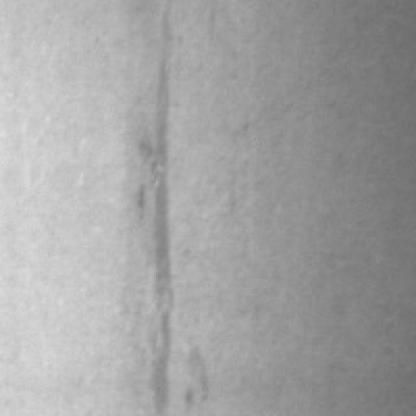inclusion: (129, 0, 181, 341), (139, 293, 208, 410)
